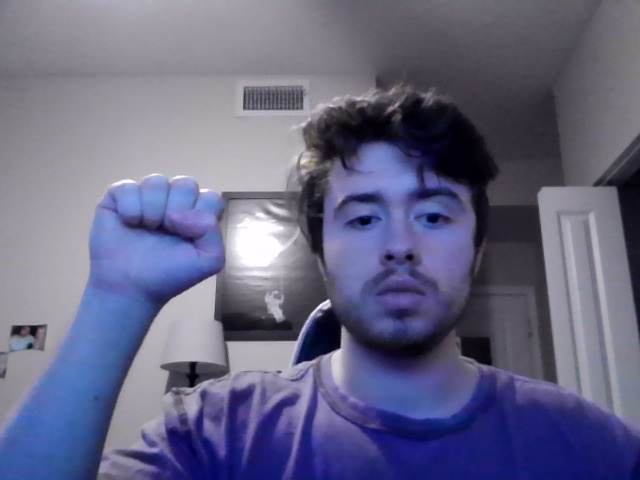s: (87, 173, 227, 308)
